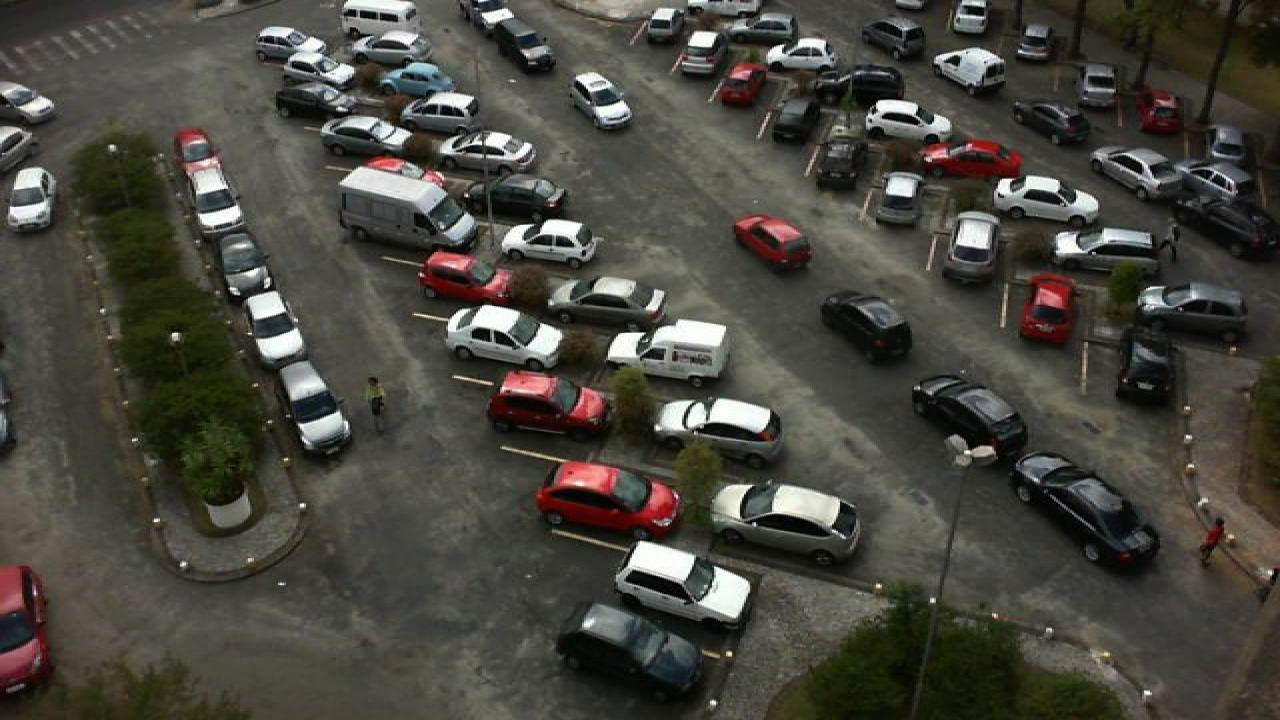Car: (1008, 449, 1164, 575), (552, 602, 712, 705), (708, 479, 864, 566), (612, 541, 756, 632), (334, 164, 478, 254), (536, 460, 684, 540), (910, 374, 1032, 462), (654, 395, 784, 469), (486, 370, 614, 440), (440, 302, 564, 373), (604, 319, 732, 386), (1132, 282, 1254, 346), (820, 289, 916, 366), (278, 359, 352, 458), (0, 564, 54, 698), (546, 273, 670, 331), (1172, 190, 1276, 259), (988, 174, 1102, 228), (1048, 225, 1164, 277), (1090, 146, 1196, 202), (416, 250, 518, 305), (240, 289, 308, 371), (496, 217, 602, 268), (1170, 161, 1270, 214), (1112, 326, 1178, 405), (730, 213, 814, 269), (920, 140, 1026, 184), (942, 210, 1006, 282), (436, 132, 536, 178), (1014, 273, 1078, 343), (216, 231, 276, 305), (480, 171, 568, 221), (318, 115, 412, 161), (568, 70, 636, 131), (860, 99, 952, 144), (1008, 102, 1094, 148), (930, 47, 1008, 97), (336, 0, 422, 42), (814, 128, 872, 189), (6, 166, 58, 233), (398, 91, 478, 134), (282, 49, 362, 92), (192, 175, 246, 238), (274, 84, 358, 124), (494, 18, 556, 71), (350, 32, 434, 70), (832, 63, 906, 106), (254, 24, 332, 64), (860, 17, 928, 62), (870, 170, 924, 226), (174, 127, 224, 187), (378, 61, 458, 98), (768, 91, 822, 143), (708, 62, 768, 108), (764, 36, 840, 72), (0, 79, 58, 125), (672, 28, 722, 78), (1132, 88, 1184, 136), (356, 155, 448, 181), (1072, 62, 1120, 108), (460, 0, 520, 34), (740, 10, 798, 43), (1010, 21, 1054, 62), (638, 7, 680, 45), (976, 0, 1020, 36)
